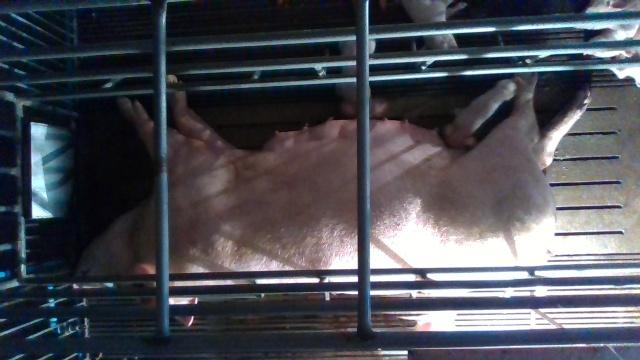piglet: (444, 77, 515, 151), (402, 0, 467, 61), (339, 40, 387, 117)
sow-sleep-lactate: (71, 73, 584, 328)
